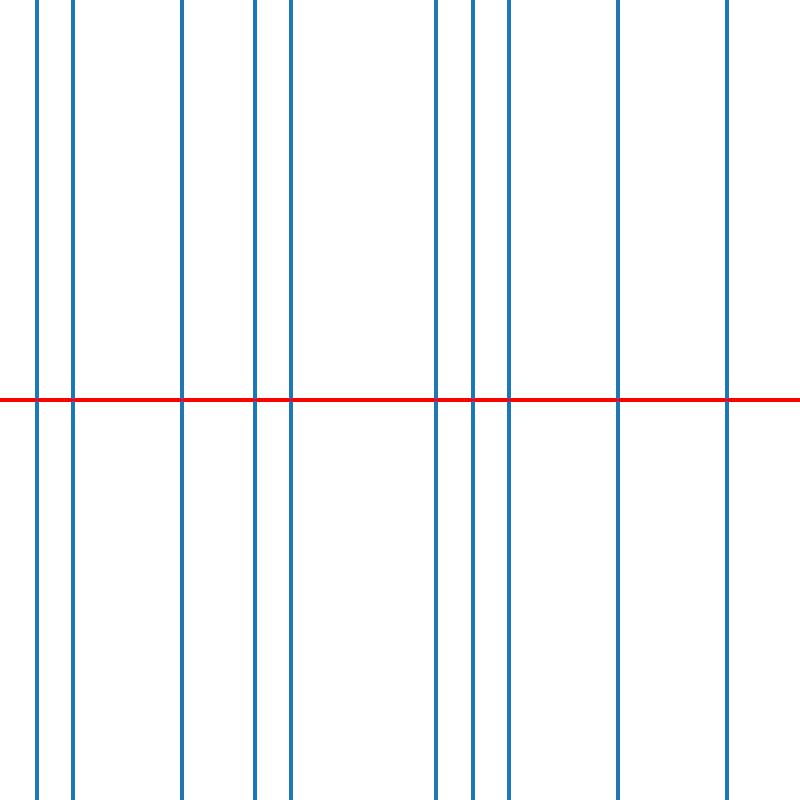root: (32, 396, 40, 404), (250, 396, 258, 404), (432, 396, 440, 404), (287, 396, 294, 404), (505, 396, 512, 404), (469, 396, 476, 404), (723, 396, 730, 404), (178, 396, 185, 404), (614, 396, 621, 404), (69, 396, 76, 404)
